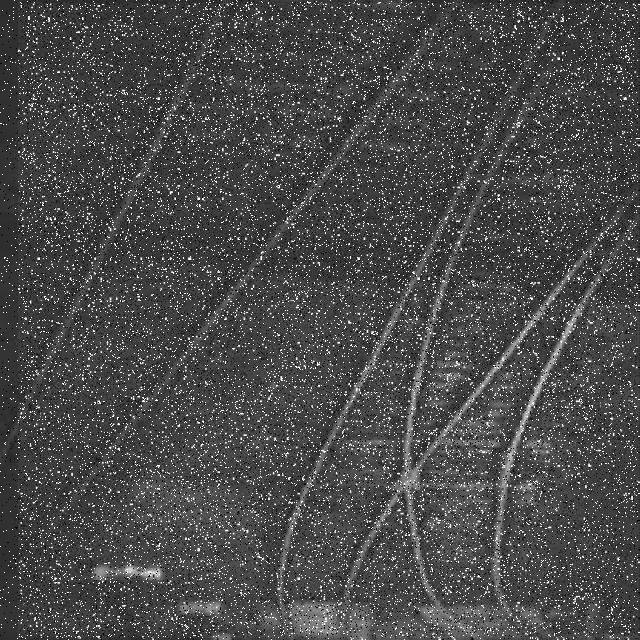rail: (20, 4, 640, 639)
